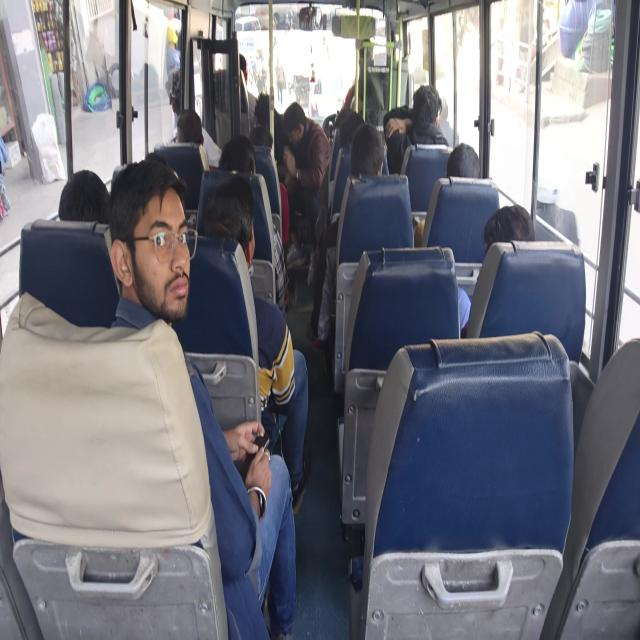person: (138, 193, 206, 299), (202, 186, 249, 268), (475, 204, 529, 266), (66, 171, 110, 227), (414, 94, 446, 154), (225, 138, 257, 196), (353, 131, 383, 191), (449, 147, 488, 190), (279, 108, 313, 151), (245, 114, 274, 158), (255, 90, 276, 134), (351, 37, 376, 72), (170, 75, 194, 107), (177, 111, 200, 143), (233, 56, 251, 88)
